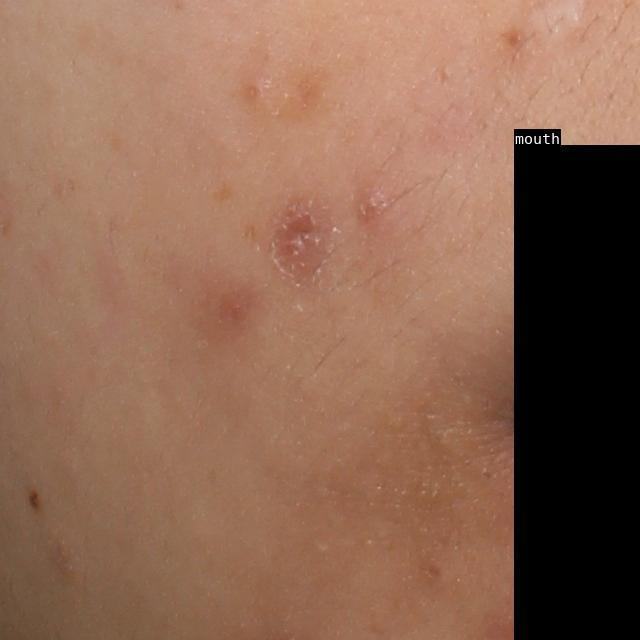nevus: (22, 484, 45, 512)
papule: (345, 181, 390, 227)
